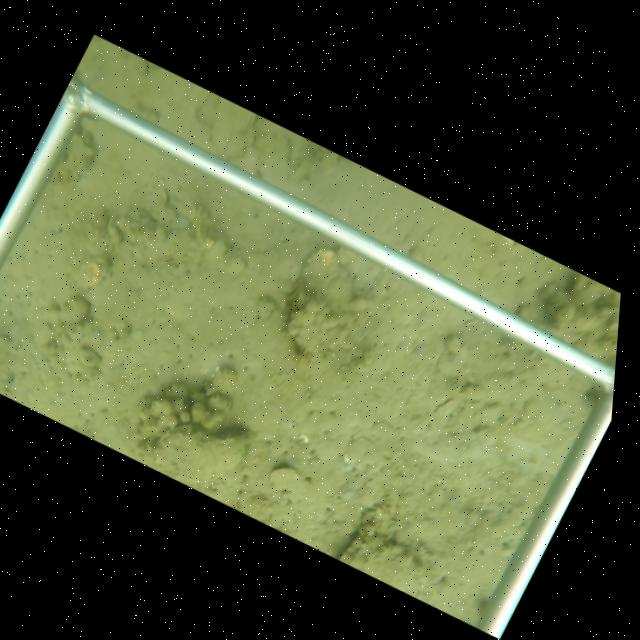Oyster-Closed: (286, 244, 378, 358)
Oyster-Indeterminate: (151, 422, 250, 492), (334, 530, 432, 595), (265, 460, 300, 483)
